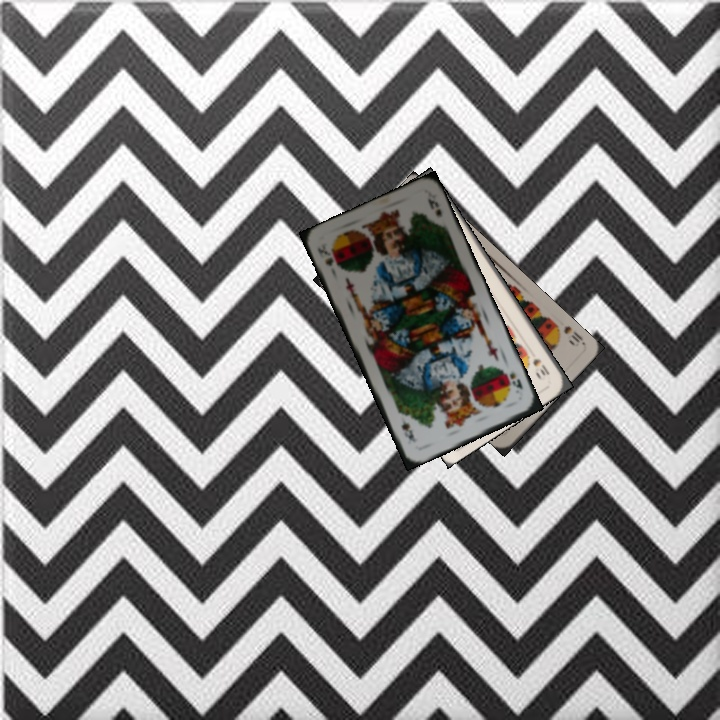S10: (549, 319, 586, 349), (529, 354, 552, 378)
SK: (313, 239, 336, 269), (505, 368, 525, 392)
